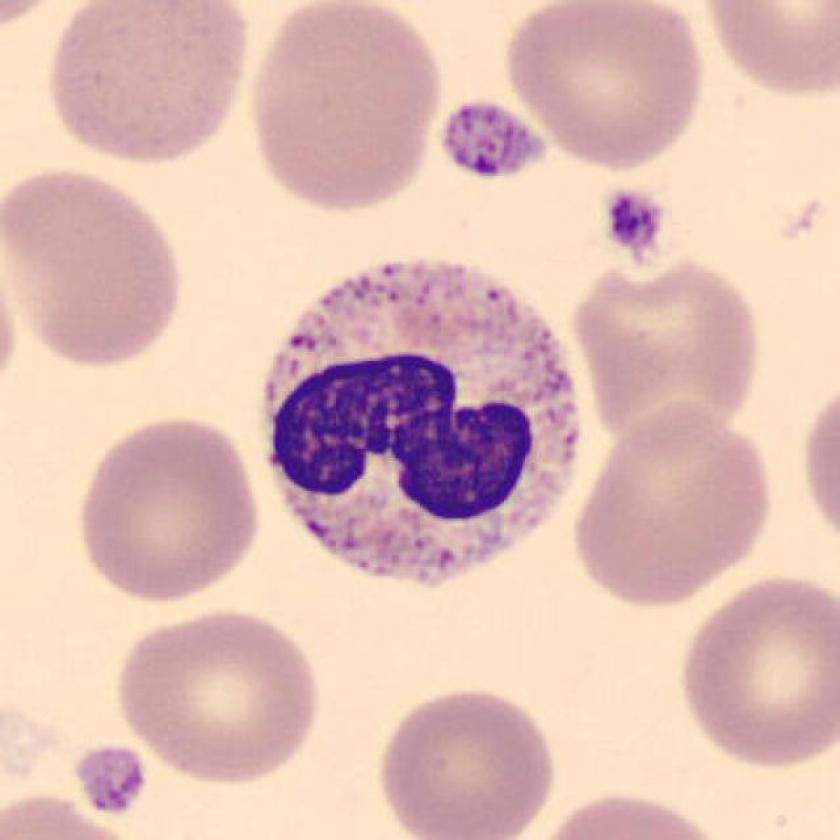neutrophil: (262, 258, 588, 581)
